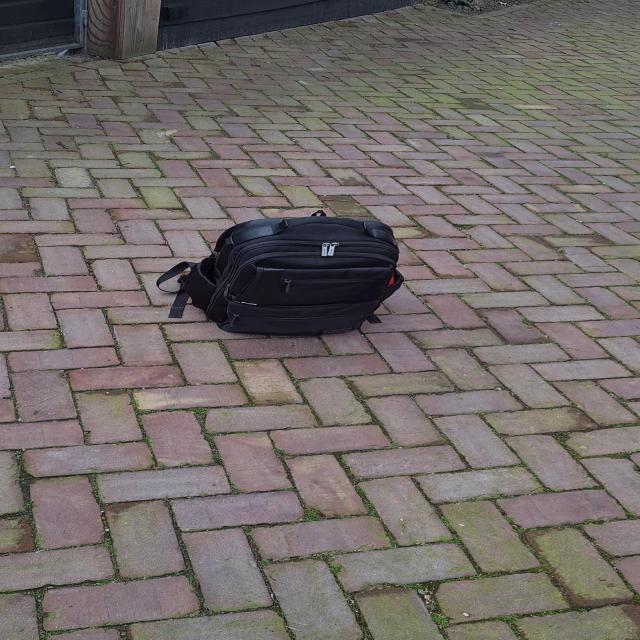backpack: (167, 210, 411, 338)
